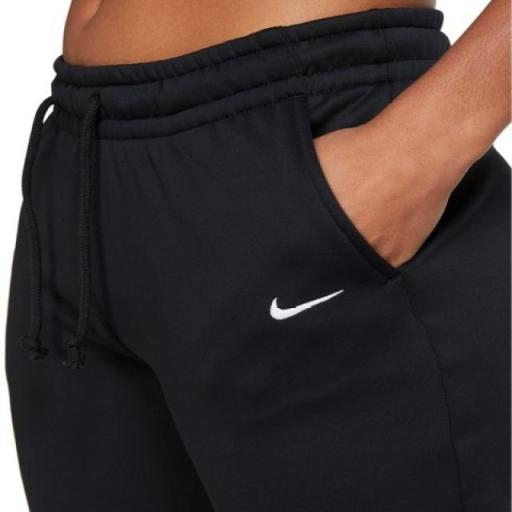Nike: (249, 285, 360, 328)
